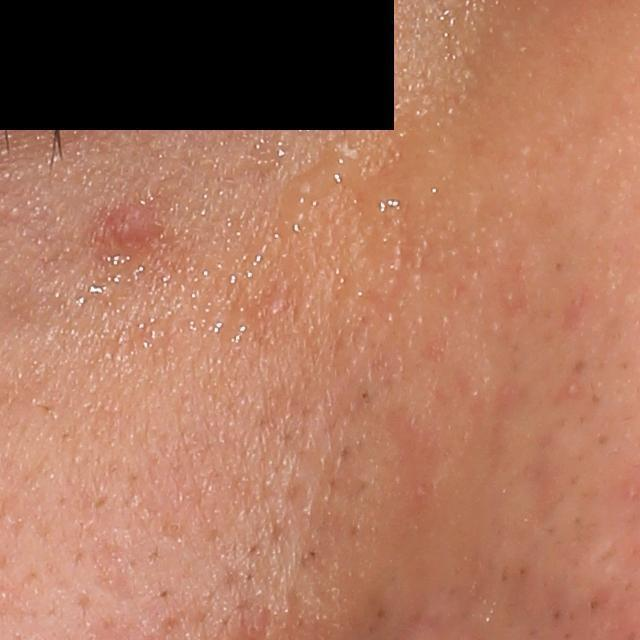papule: (96, 209, 143, 251)
